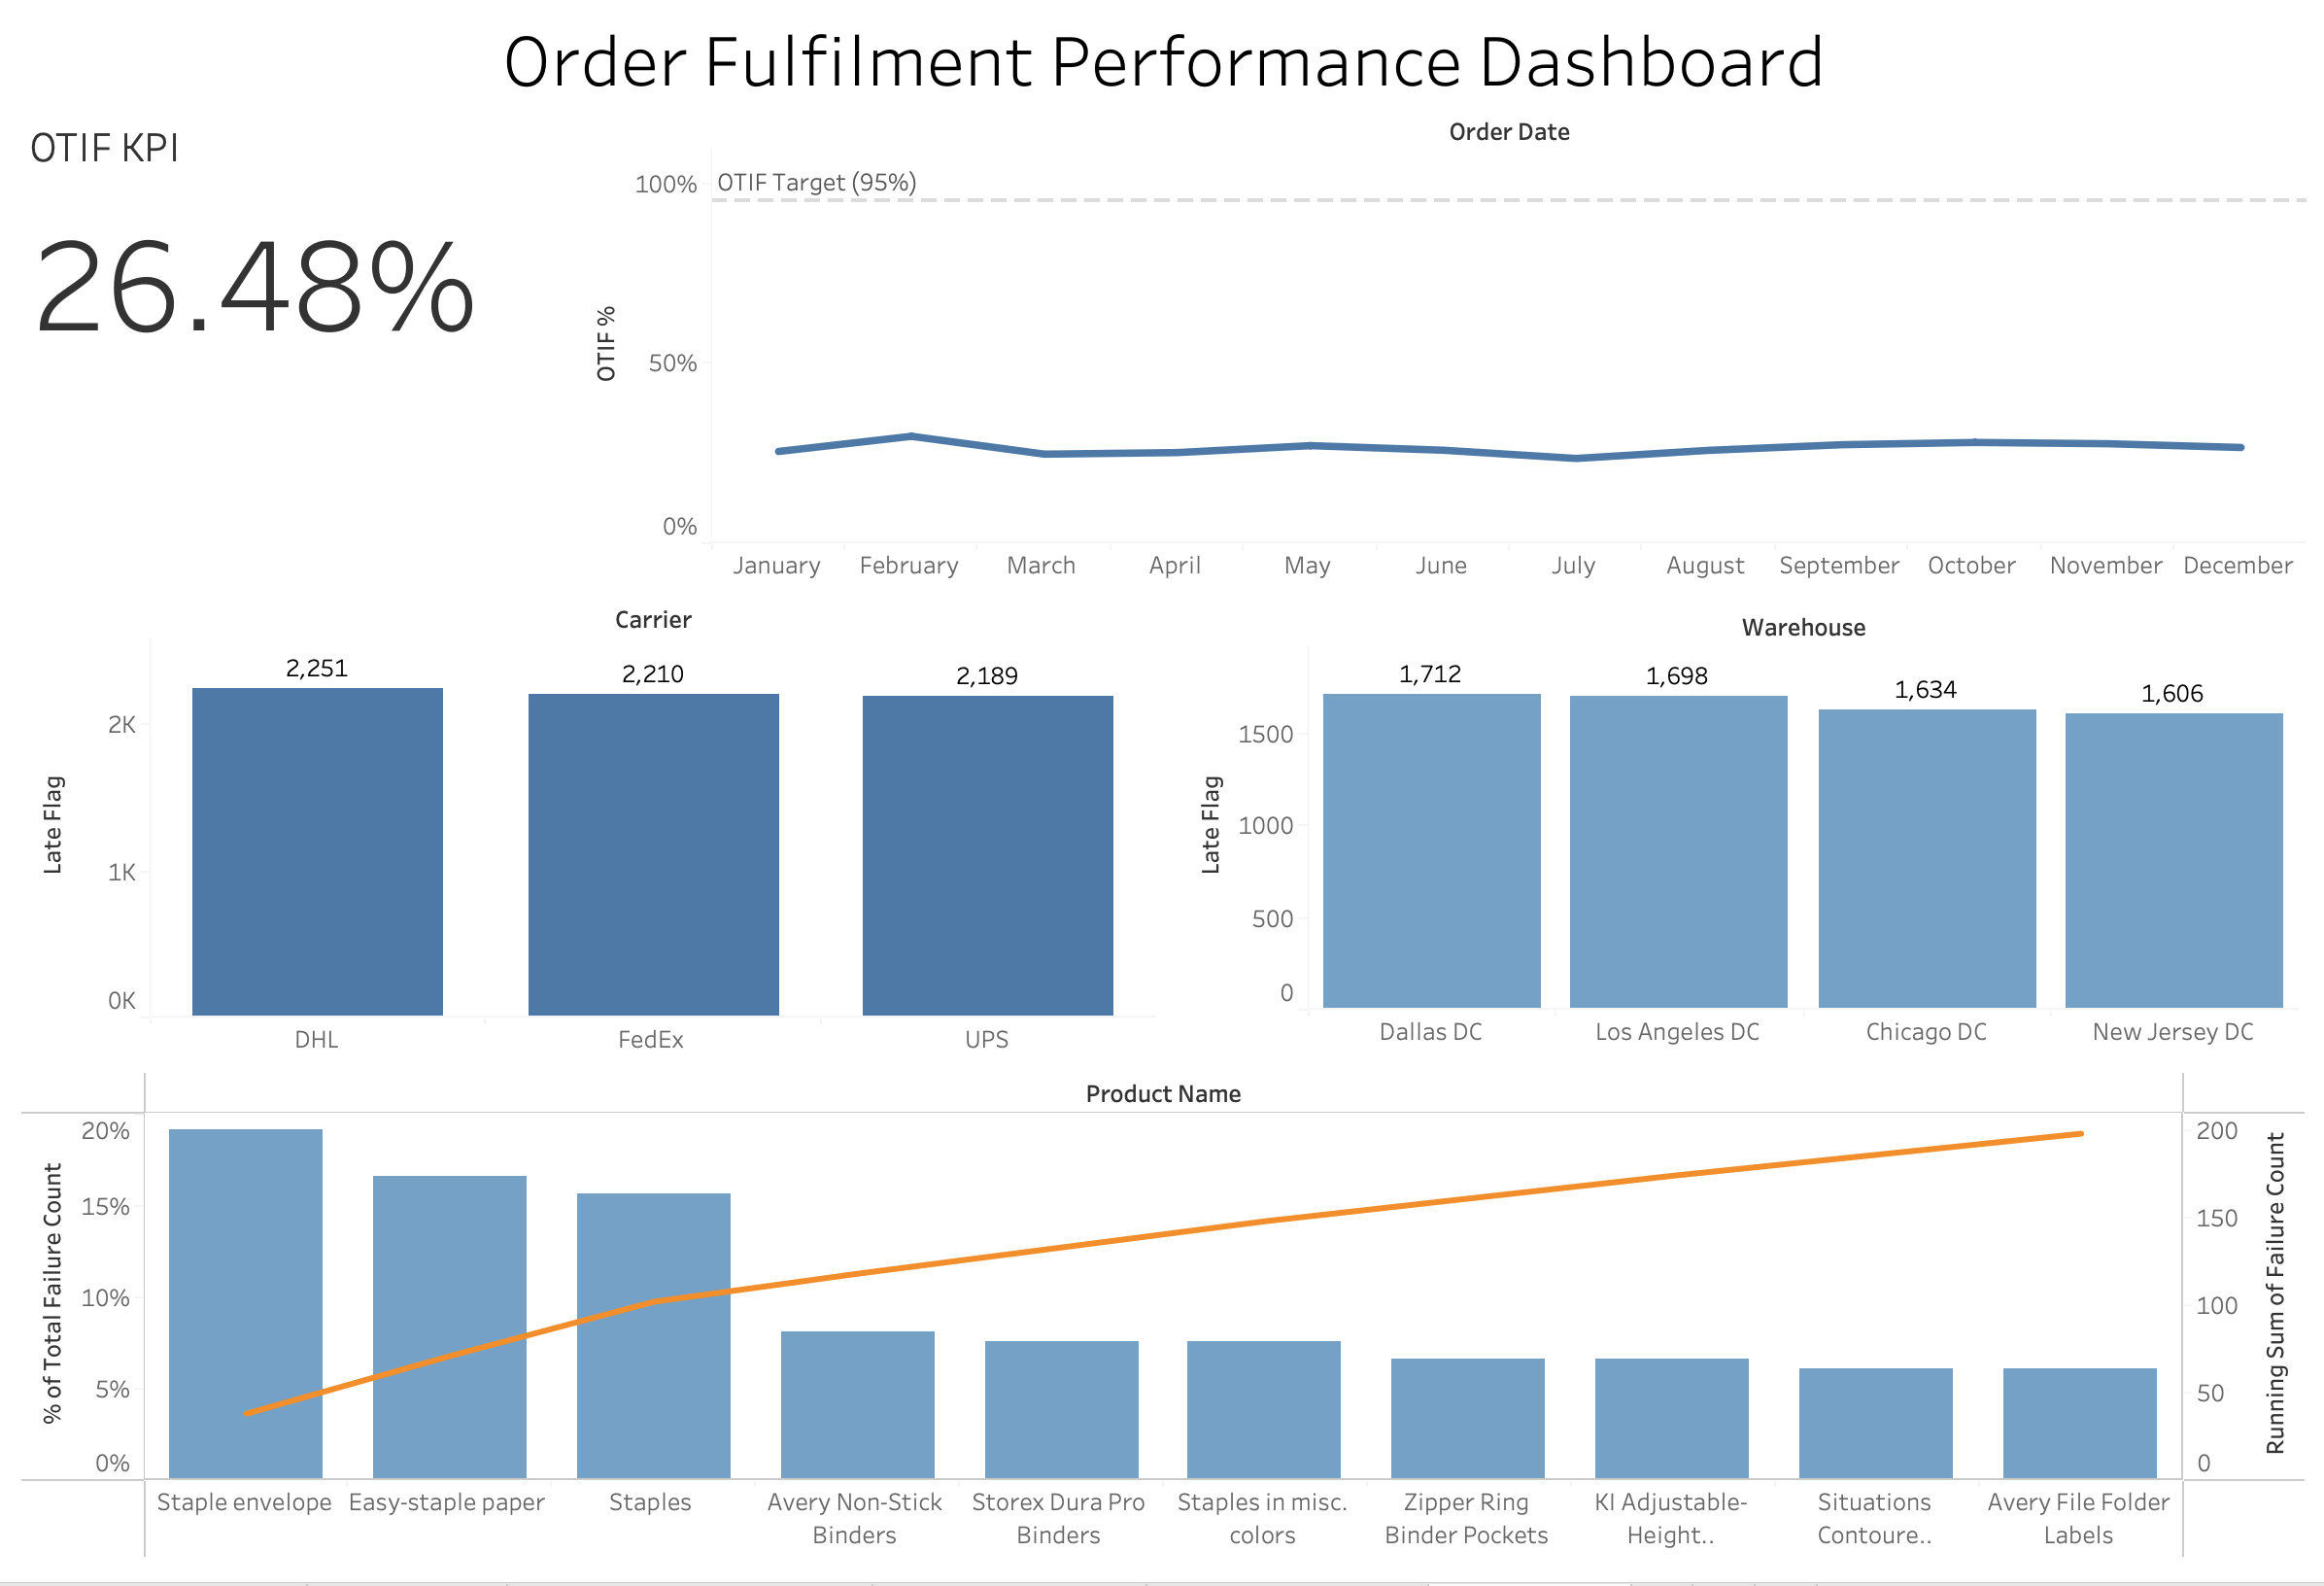

Layout of this report page (visuals, bound fields, positions):
{"tool":"tableau","page":{"name":"Dashboard 1","canvas":[1200,900],"ordinal":0},"visuals":[{"type":"text","box":[8,8,1184,50]},{"type":"worksheet","title":"OTIF KPI","mark":"Automatic","box":[8,58,292,278]},{"type":"worksheet","title":"OTIF Performance vs Target","mark":"Line","rows":["Calculation_2468746695951802368"],"cols":["Order Date"],"box":[300,58,892,278]},{"type":"worksheet","title":"Late Shipments","mark":"Bar","rows":["Late_Flag"],"cols":["Carrier"],"box":[8,336,592,270]},{"type":"worksheet","title":"Late Shipments by Warehouse","mark":"Bar","rows":["Late_Flag"],"cols":["Warehouse"],"box":[600,336,592,270]},{"type":"worksheet","title":"Pareto - Failure Drivers","mark":"Automatic","rows":["Calculation_2534471103037845504","Calculation_2534471103037845504"],"cols":["Product Name"],"box":[8,606,1184,286]}]}

Visuals, with their boxes on the page's 1200x900 design canvas (x1, y1, x2, y2). These are canvas units, not pixel positions in the 2324x1586 screenshot, which may show the page scaled, cropped or inside an application window:
text: (8, 8, 1192, 58)
"OTIF KPI" worksheet: (8, 58, 300, 336)
"OTIF Performance vs Target" worksheet (Line marks): (300, 58, 1192, 336)
"Late Shipments" worksheet (Bar marks): (8, 336, 600, 606)
"Late Shipments by Warehouse" worksheet (Bar marks): (600, 336, 1192, 606)
"Pareto - Failure Drivers" worksheet: (8, 606, 1192, 892)
